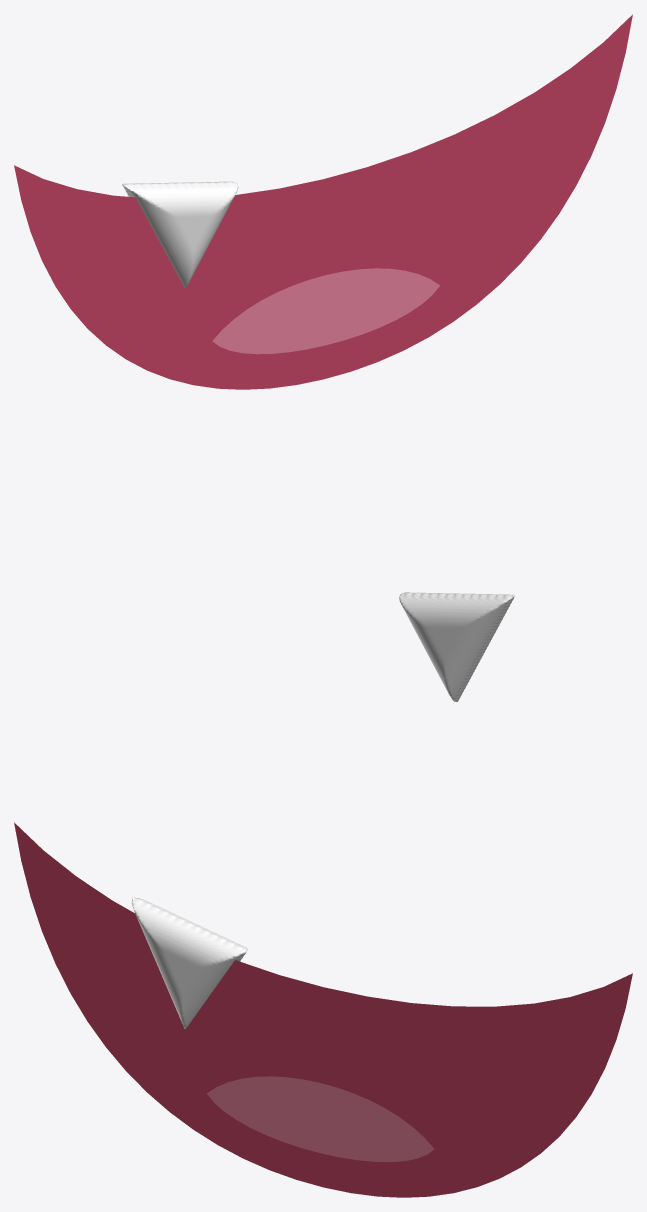
File: mouth-smile.glb
The picture shows the model from 3 angles, top to bottom: view 1: azimuth 30°, elevation 25°; view 2: azimuth 150°, elevation 25°; view 3: azimuth 330°, elevation 25°; orthographic projection.
Visible parts, largest first — view 1: mouth_0_flat, mouth_2_flat, mouth_1_solid; view 2: mouth_1_solid; view 3: mouth_0_flat, mouth_2_flat, mouth_1_solid.
Boxes of the visible parts, <box> form: mouth_0_flat: <box>14,14,632,389</box>; mouth_2_flat: <box>212,268,439,354</box>; mouth_1_solid: <box>122,181,238,288</box>; mouth_1_solid: <box>399,592,514,701</box>; mouth_0_flat: <box>14,822,632,1197</box>; mouth_2_flat: <box>207,1076,434,1162</box>; mouth_1_solid: <box>131,897,247,1028</box>.
Size of the model in its own units: 0.304 by 0.136 by 0.0191.
